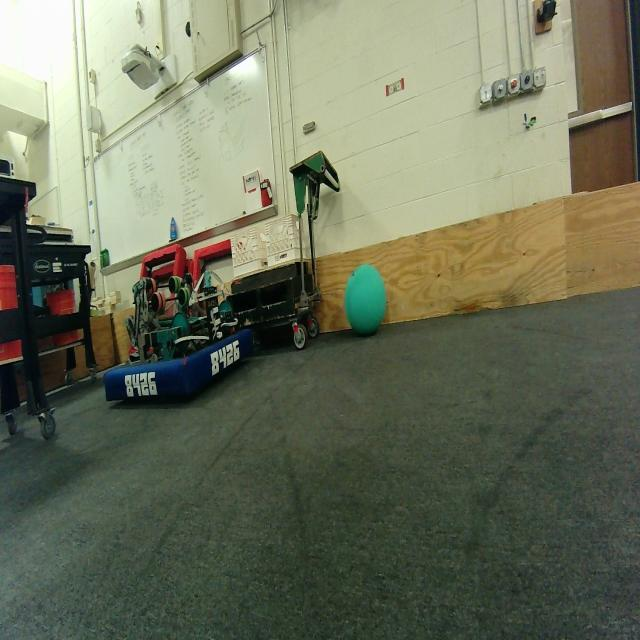algae: (344, 264, 388, 335)
